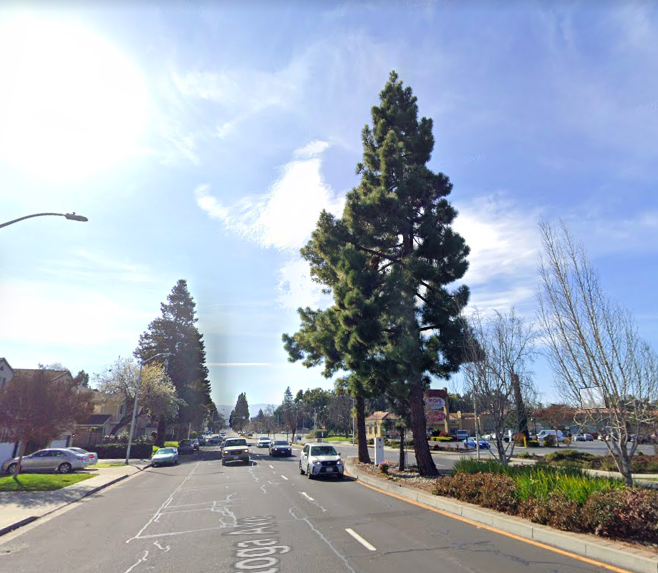tree: (282, 68, 487, 477)
